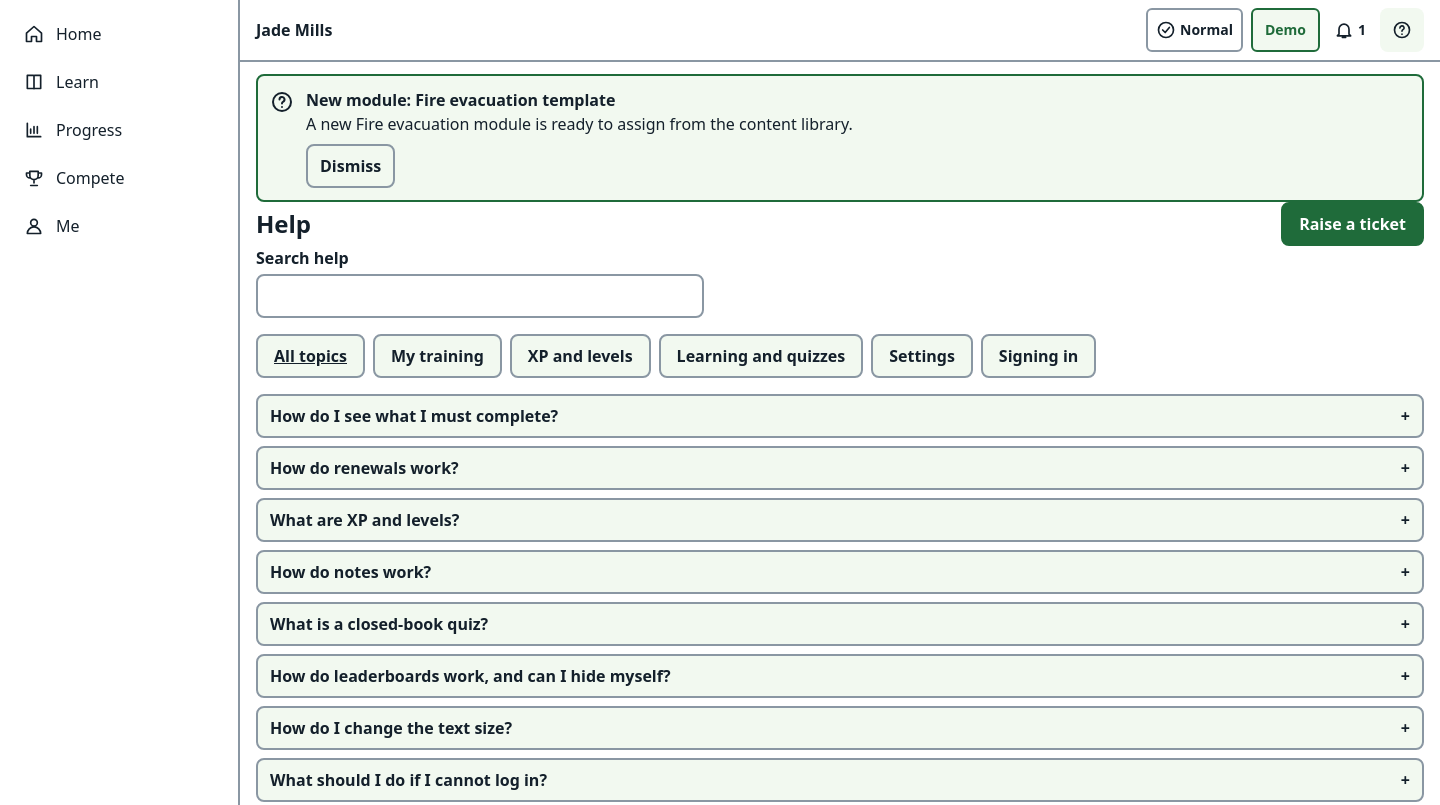
Test: S14 Help: FAQs › searches question and answer text, ignoring case, and says so when nothing matches
The width and height of the screenshot is (1440, 805).
Type "AUTHENTICATOR" into the search field labelled "Search help" at [480, 296], box [256,274,704,318]
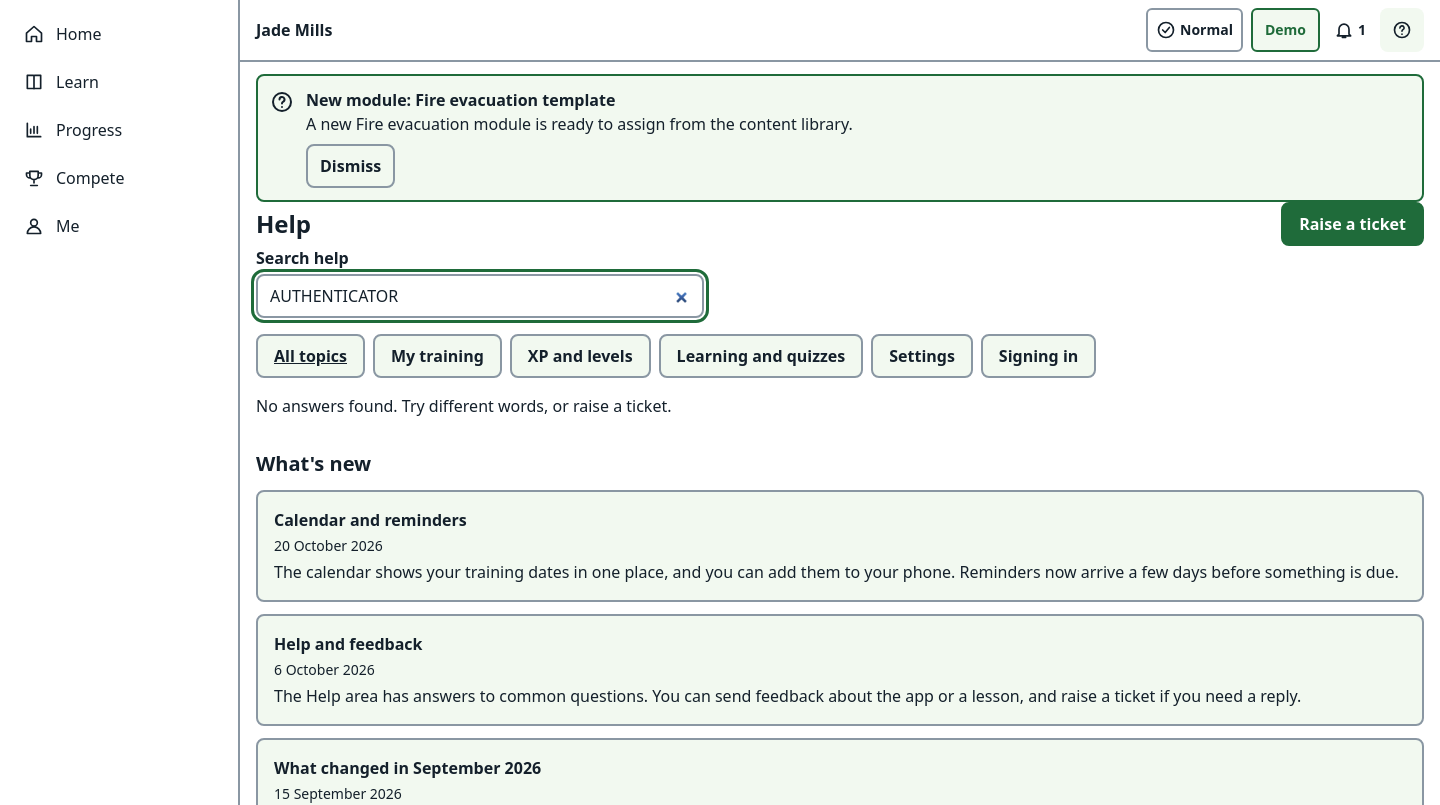
Expected: the text "No answers found. Try different words, or raise a ticket." is shown, [256,395,672,417]
Replace the text in the search field labelled "Search help" with "pin" at [480, 296], box [256,274,704,318]
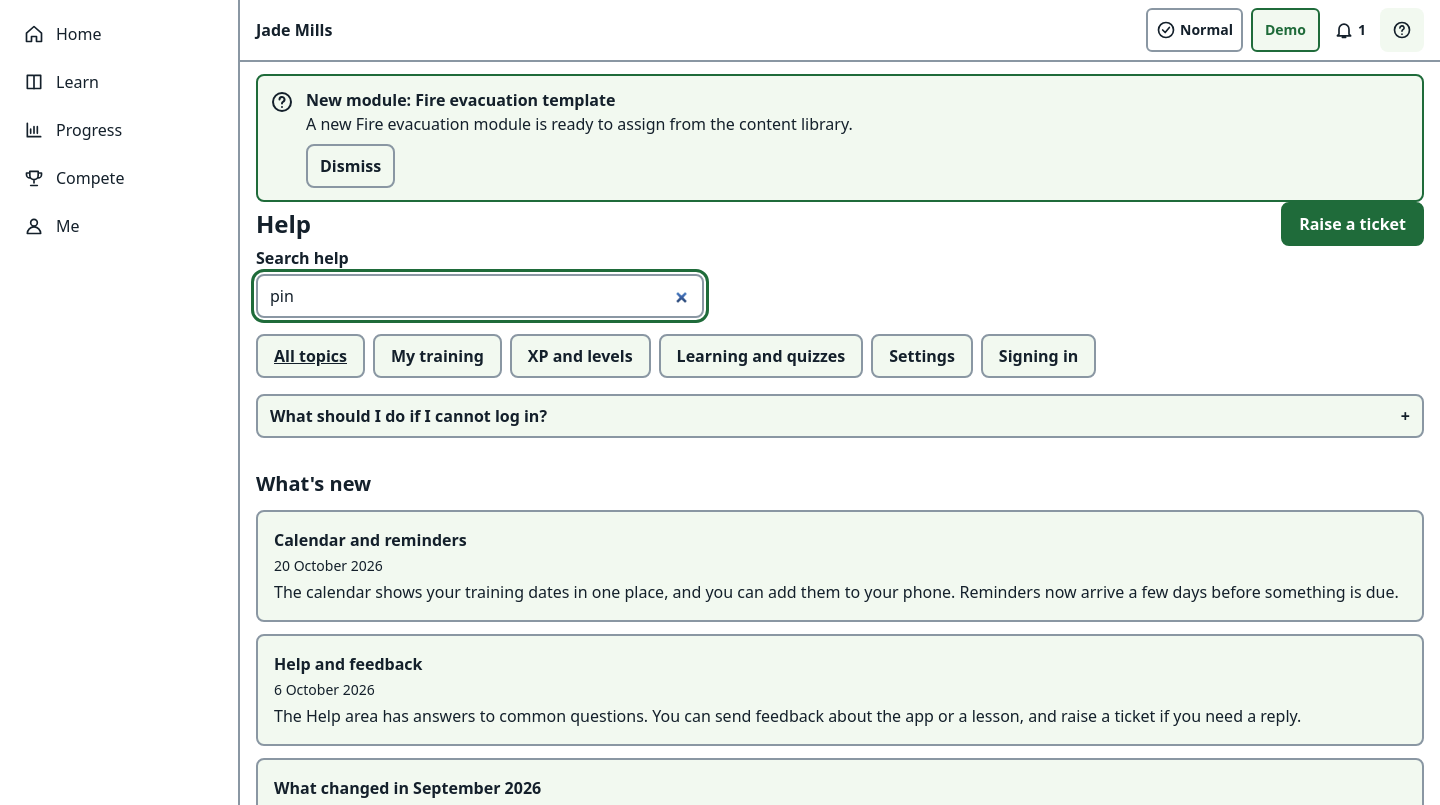
Expected: the button "What should I do if I cannot log in? +" is shown, [256,394,1424,438]
Expected: the button "What are XP and levels?" is gone
